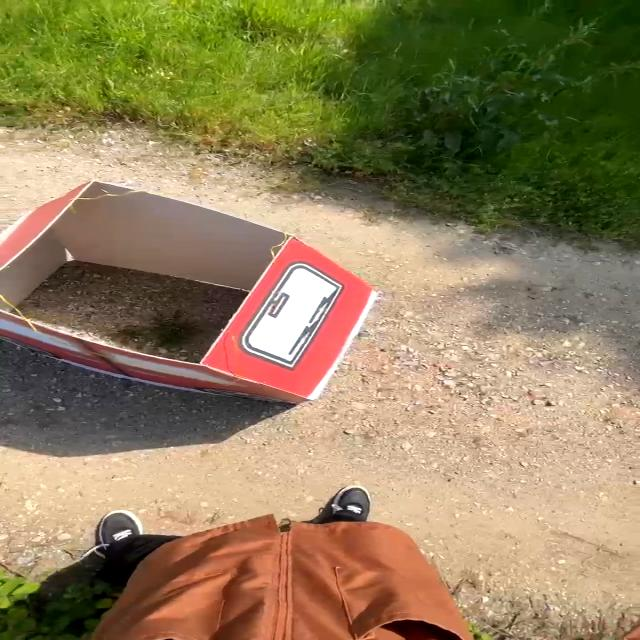red_car: (0, 153, 421, 421)
